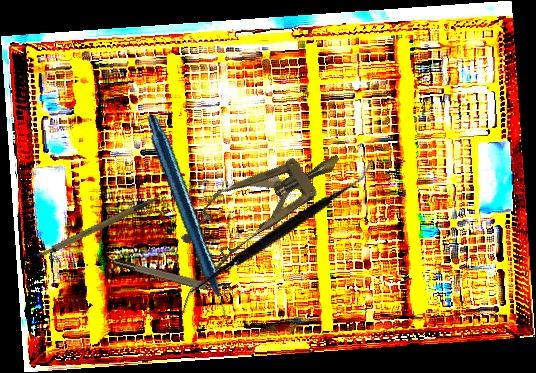Fixation Ring: (112, 251, 233, 301)
Handpiece: (95, 113, 277, 329)
Scalpel Handle: (31, 194, 167, 262)
Spatula Surgical: (180, 113, 376, 359)
Speculum: (170, 128, 357, 280)
